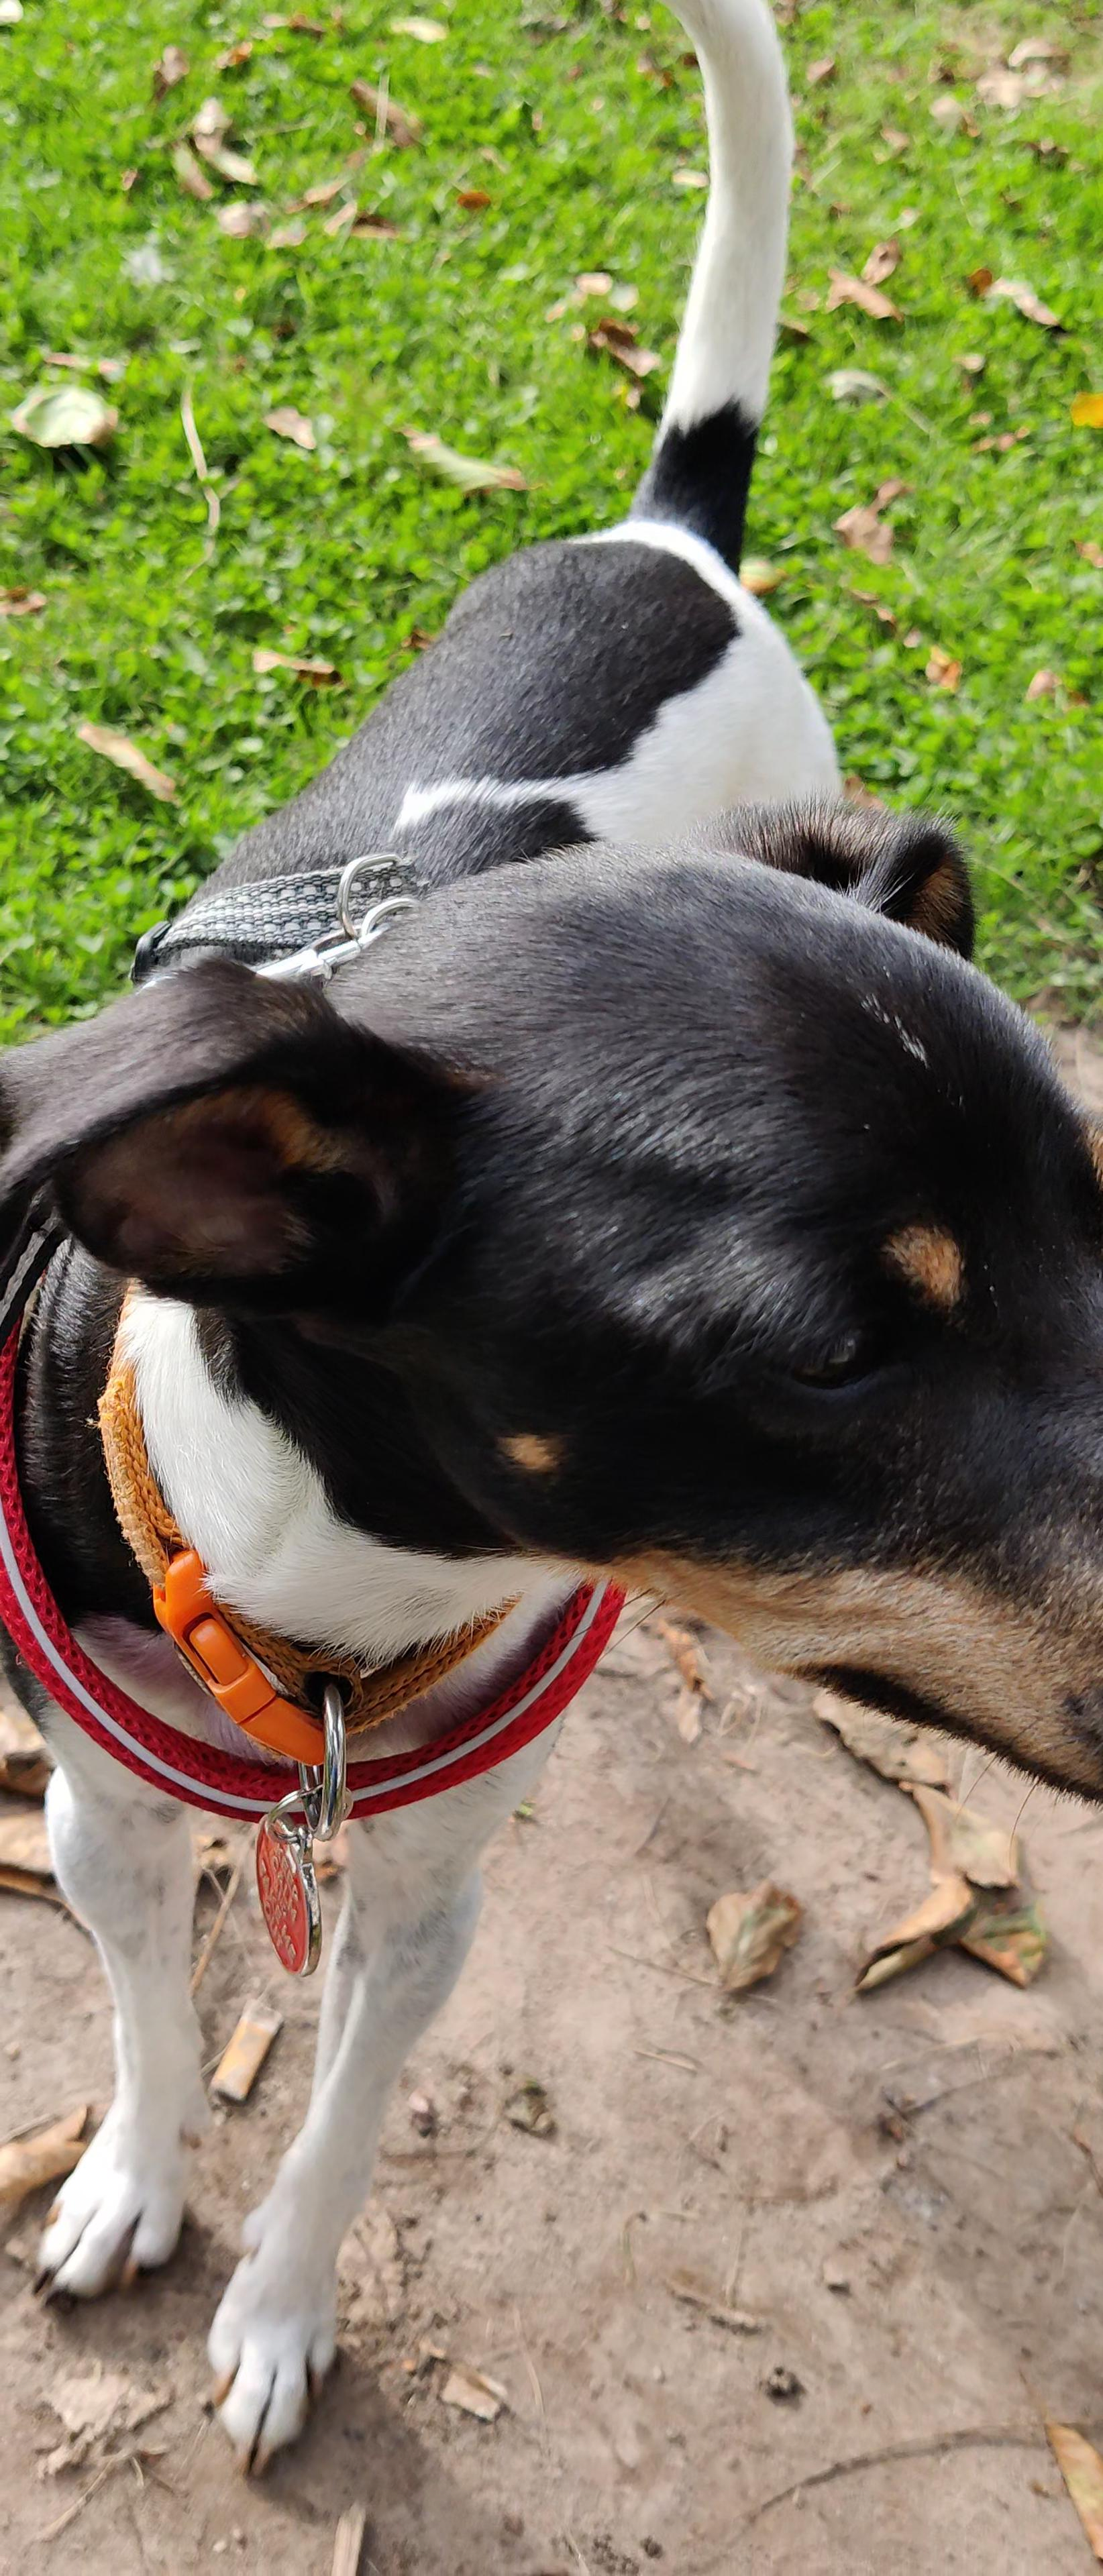Dog: (0, 0, 1103, 2476)
